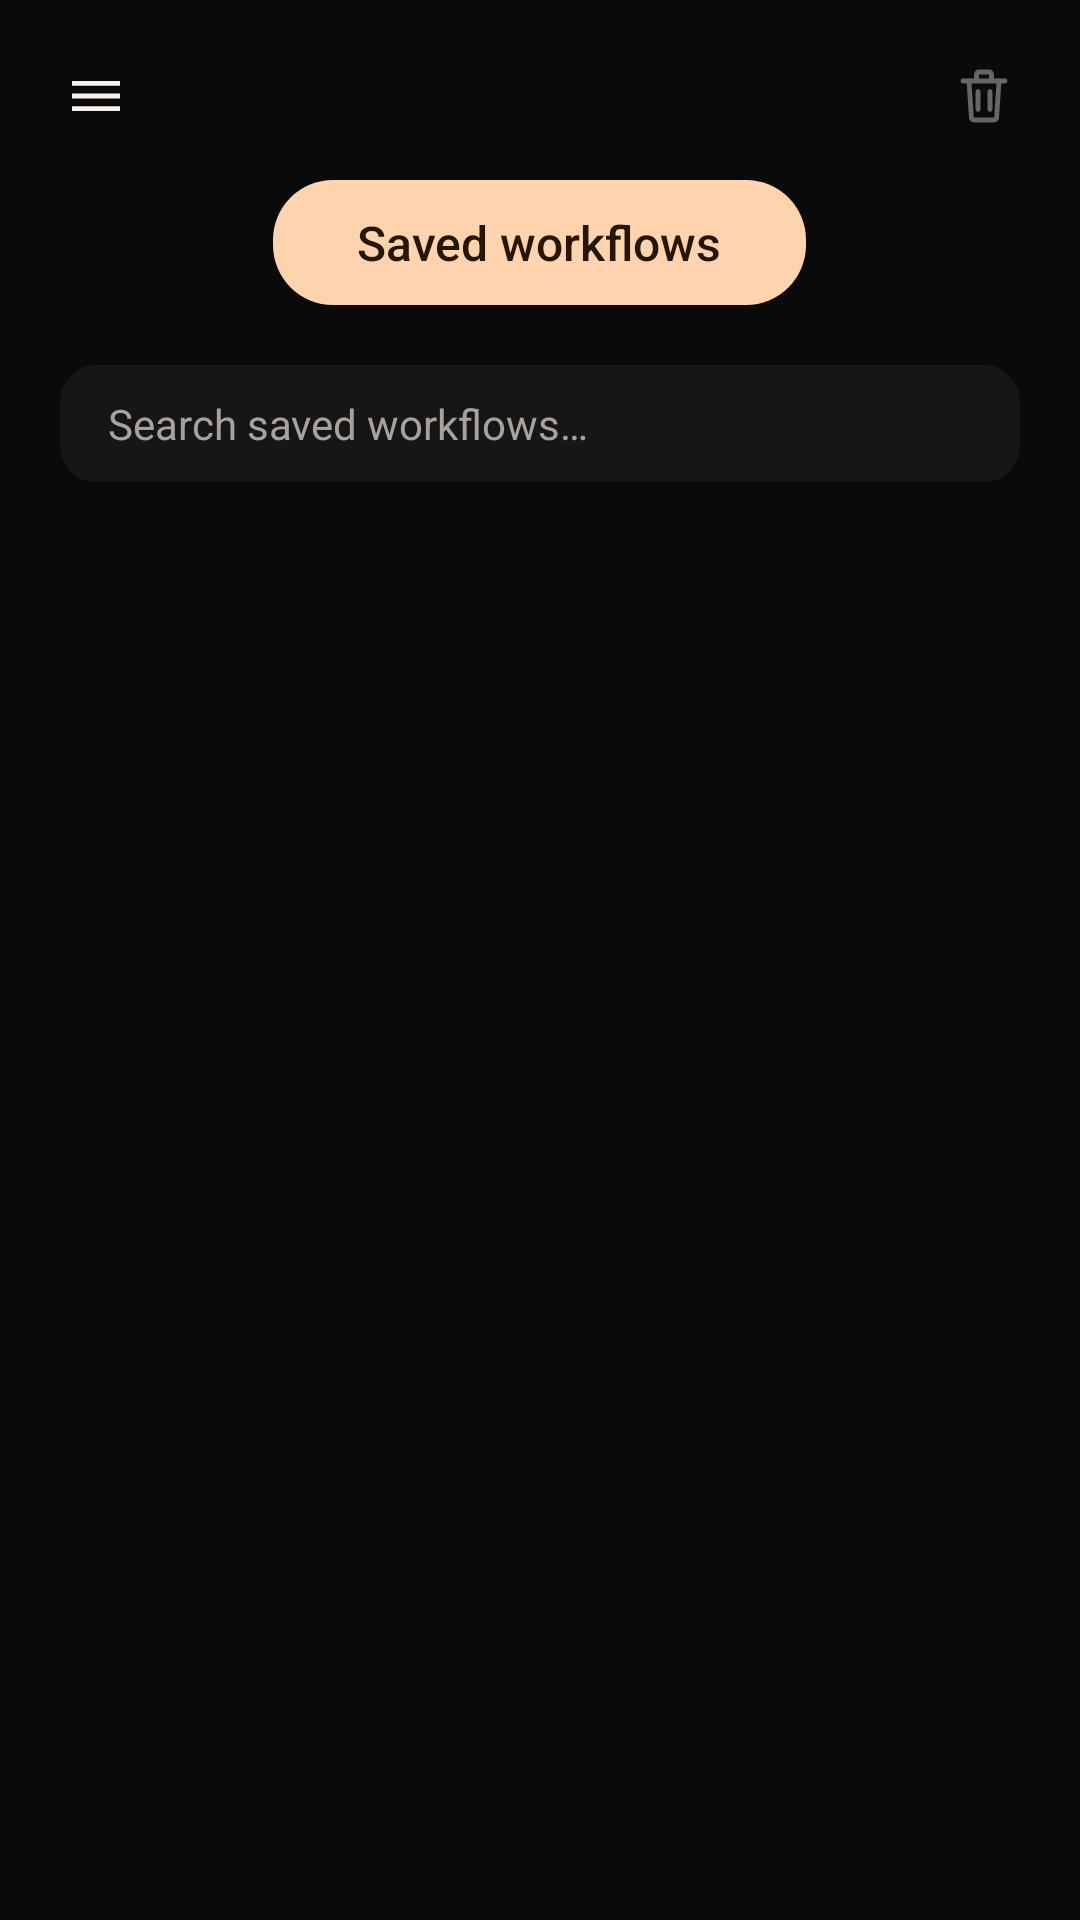

Where icons sit on this 1080×1920 app screen, as region(x1, y1, x2, y2):
Delete selected: region(960, 69, 1007, 123)
Menu: region(72, 81, 120, 111)
